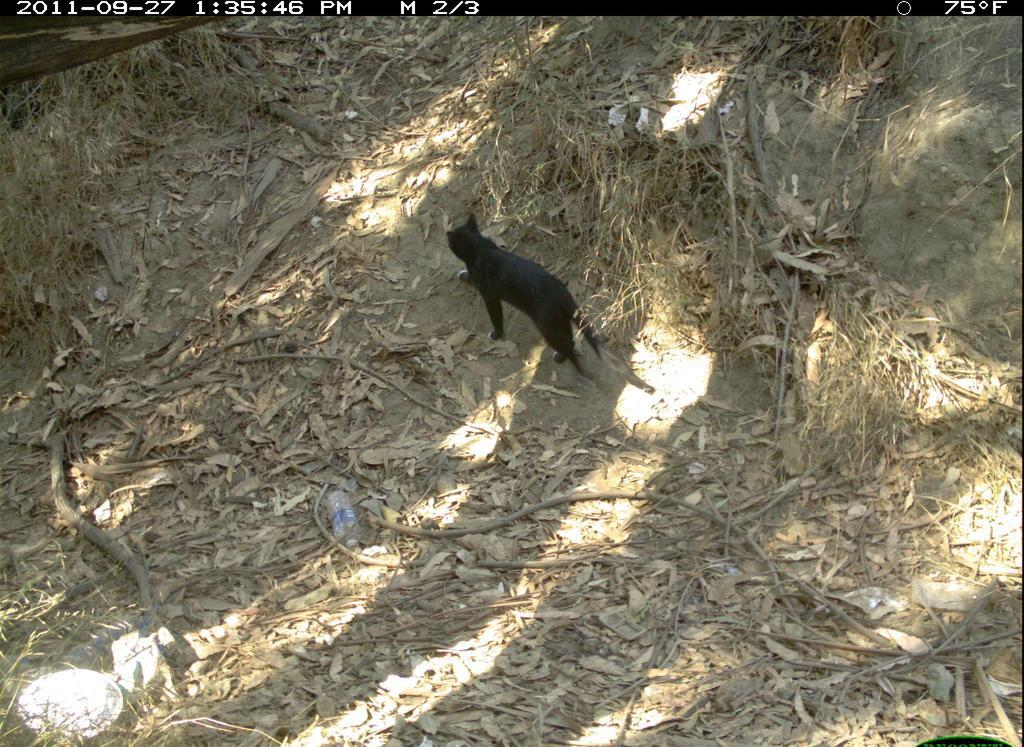cat: (438, 210, 639, 383)
